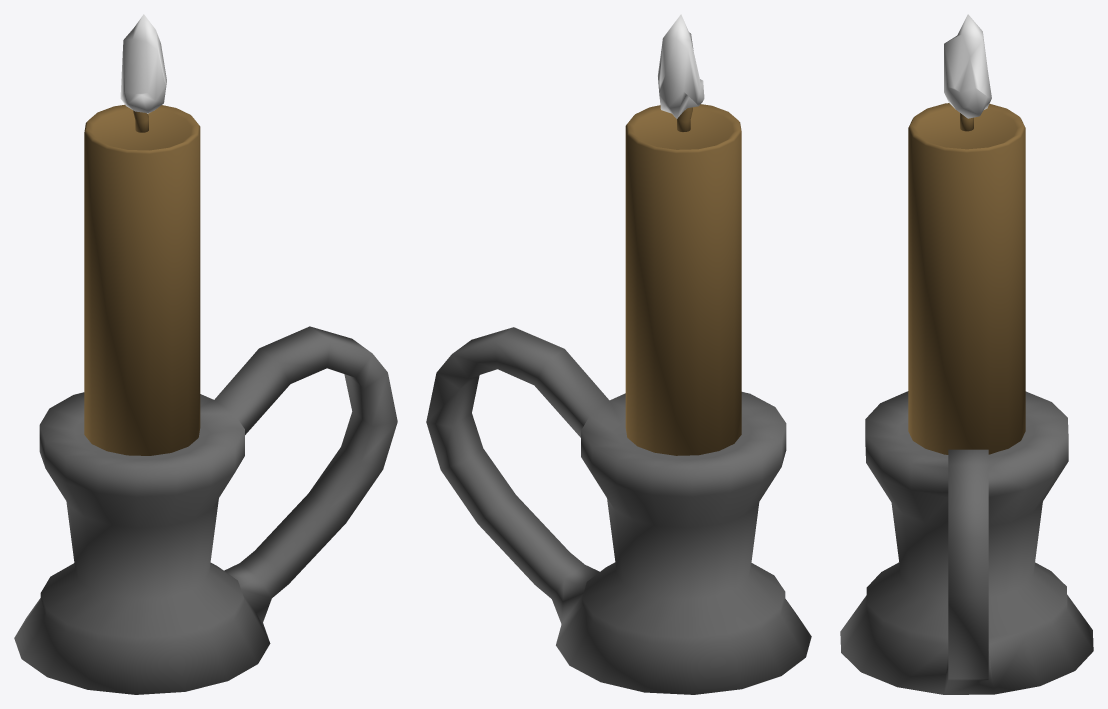
The model's file is Velinha.fbx.
The picture shows the model from 3 angles, left to right: view 1: azimuth 30°, elevation 25°; view 2: azimuth 150°, elevation 25°; view 3: azimuth 270°, elevation 25°; orthographic projection.
Parts seen in each view (by area): view 1: Cylinder.002, Cylinder, Icosphere; view 2: Cylinder.002, Cylinder, Icosphere; view 3: Cylinder.002, Cylinder, Icosphere.
Part boxes in pixels (box(x1,y1,x2,y2)): Cylinder.002: box(14, 326, 397, 694); Cylinder: box(84, 104, 200, 455); Icosphere: box(120, 14, 166, 113); Cylinder.002: box(426, 327, 811, 694); Cylinder: box(625, 104, 741, 455); Icosphere: box(658, 14, 704, 118); Cylinder.002: box(840, 391, 1093, 694); Cylinder: box(908, 103, 1025, 454); Icosphere: box(944, 14, 991, 118).
Size of the model in its own units: 102 by 171 by 62.58.
